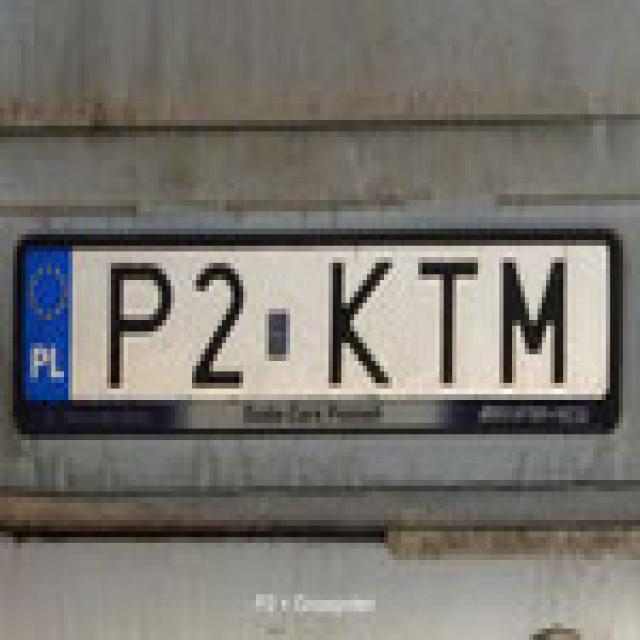pl_license_plate: (17, 234, 606, 394)
